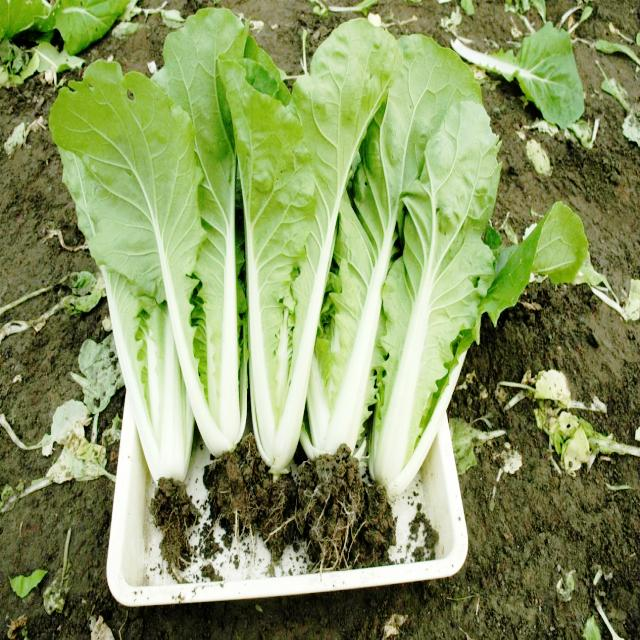chinese_cabbage: (73, 40, 558, 518)
